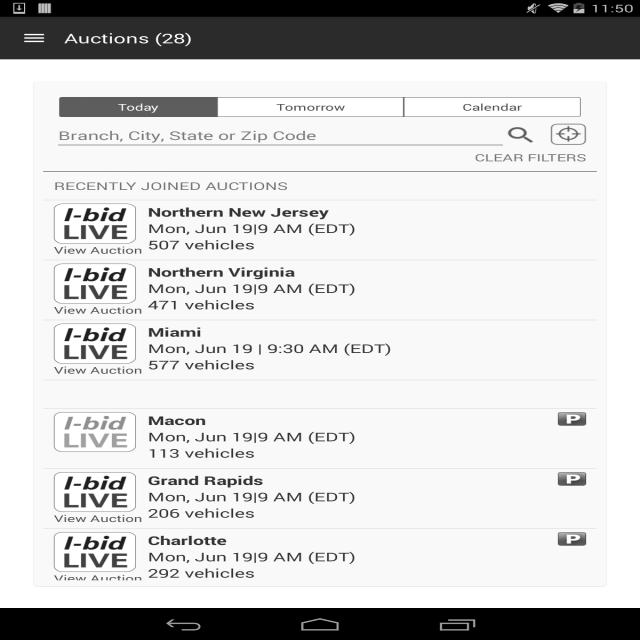EditText: (54, 120, 507, 151)
ImageButton: (0, 19, 60, 57)
ImageView: (551, 120, 586, 145), (508, 120, 534, 143), (558, 412, 586, 426), (558, 472, 586, 486), (558, 532, 586, 546)
RadioButton: (217, 97, 404, 117), (404, 97, 581, 117), (59, 97, 217, 117)
TextView: (43, 172, 597, 200), (43, 380, 597, 408), (148, 204, 586, 220), (148, 264, 586, 280), (148, 324, 586, 340), (148, 412, 558, 428), (148, 472, 558, 488), (148, 532, 558, 548), (148, 340, 391, 356), (147, 428, 356, 445), (147, 488, 356, 505), (147, 548, 356, 565), (147, 220, 356, 236), (147, 280, 356, 296), (54, 204, 136, 244), (54, 264, 136, 304), (54, 324, 136, 364), (54, 412, 136, 452), (54, 472, 136, 512), (54, 532, 136, 572), (64, 29, 192, 47), (148, 236, 255, 253), (148, 296, 255, 313), (148, 356, 255, 373), (148, 445, 255, 461), (148, 505, 255, 521), (148, 565, 255, 581), (475, 151, 586, 164), (54, 512, 142, 525), (54, 572, 142, 585), (54, 244, 142, 256), (54, 304, 142, 316), (54, 364, 142, 376)
